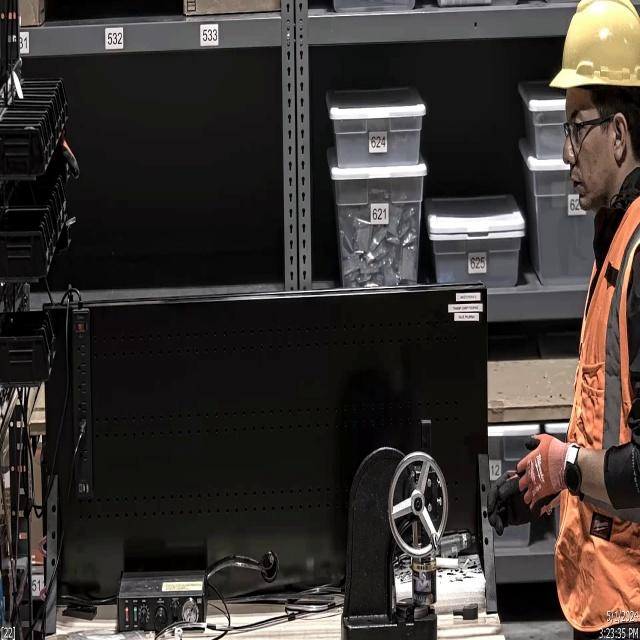construction-gloves: (512, 432, 568, 518)
